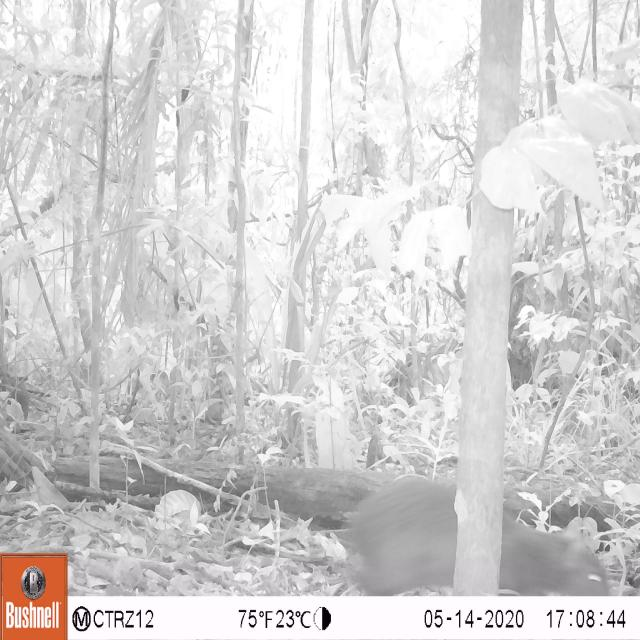Black Agouti: (306, 438, 617, 598)
